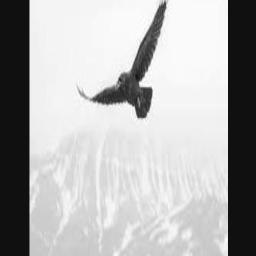Crow: (74, 0, 170, 119)
